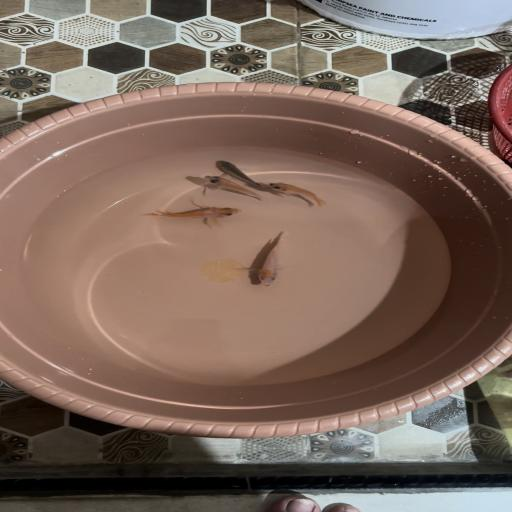nila: (242, 230, 299, 293), (141, 204, 254, 228), (196, 174, 268, 206), (264, 181, 332, 209), (213, 158, 276, 188)
